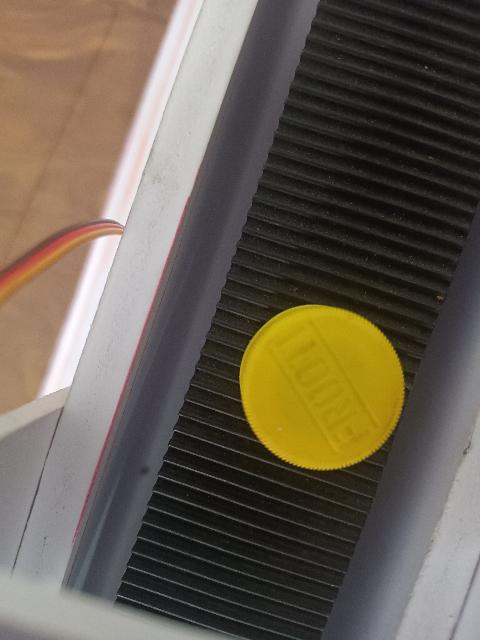bottlecap: (238, 297, 408, 475)
